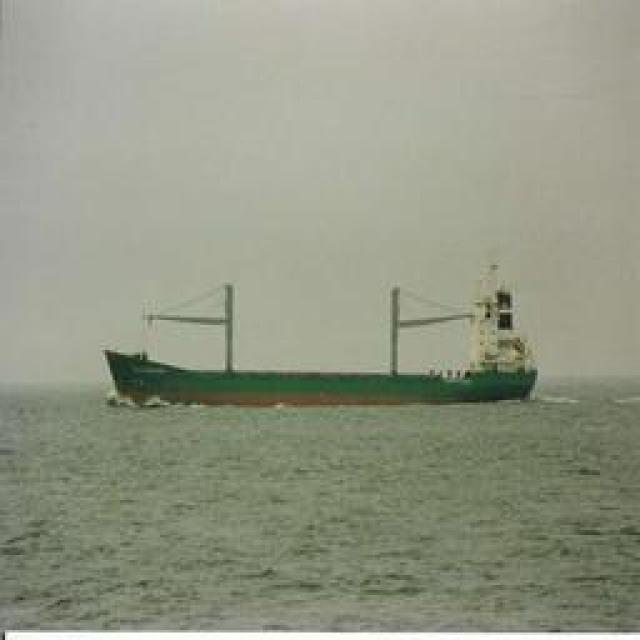Ship: (104, 267, 539, 415)
